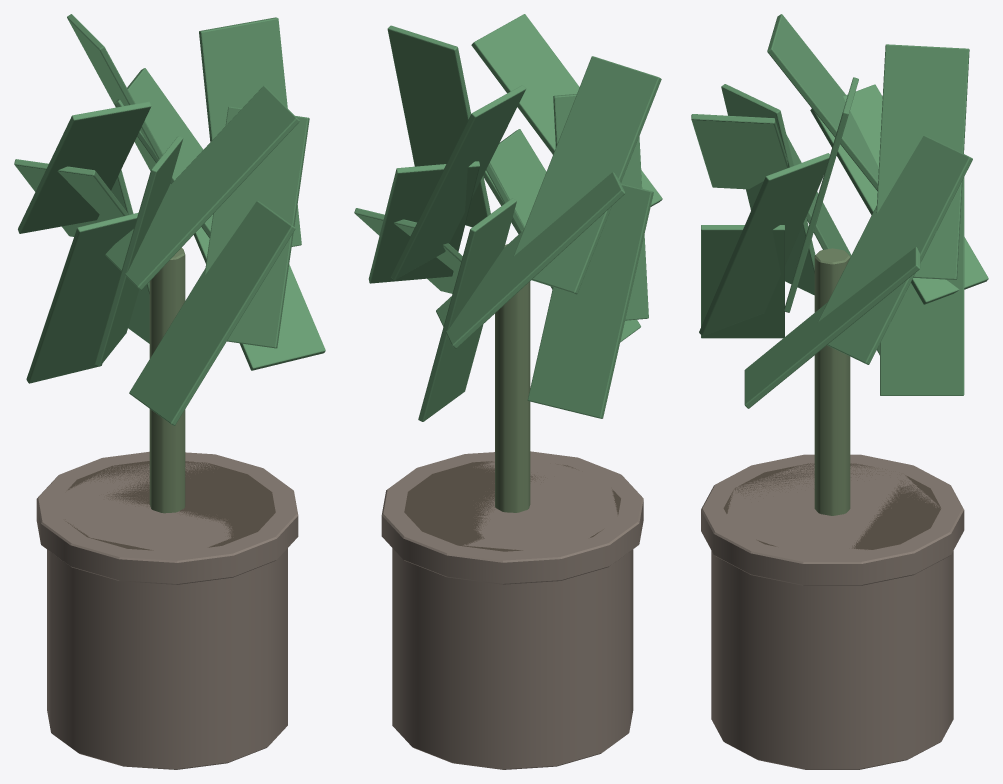
The model's file is plantTall.glb.
3 renders of one model, left to right at view 1: azimuth 30°, elevation 25°; view 2: azimuth 150°, elevation 25°; view 3: azimuth 270°, elevation 25°, orthographic.
Visible parts, largest first — view 1: plantTall; view 2: plantTall; view 3: plantTall.
Boxes of the visible parts, box(x1,y1,x2,y2) form: plantTall: box(14, 14, 325, 769); plantTall: box(354, 14, 662, 769); plantTall: box(691, 14, 988, 769).
Bounding box in the file's own units: 0.5664 × 1.39 × 0.5652.
